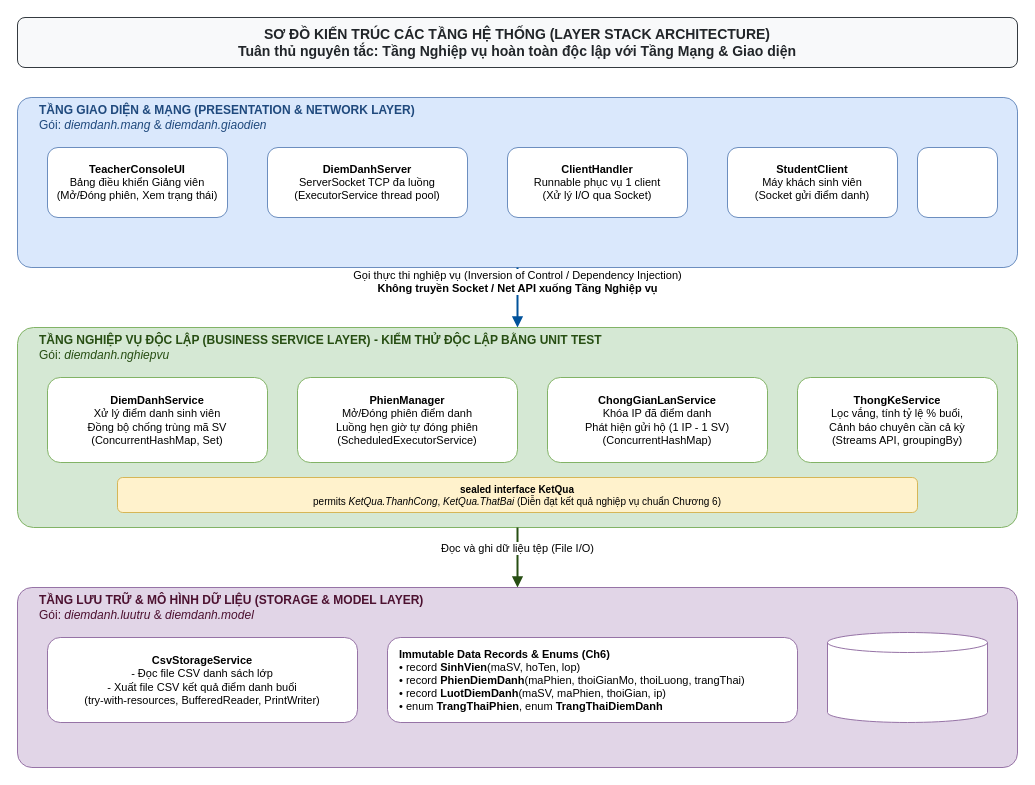
This 1035x785 diagram has some shape labels left out. Each missing label, with the centre of its shape:
ProtocolParser Phân tích gói lệnh văn bản: pixel 957 182
Tệp Dữ Liệu CSV • danh-sach-lop.csv • buoi-YYYYMMDD.csv: pixel 907 677
